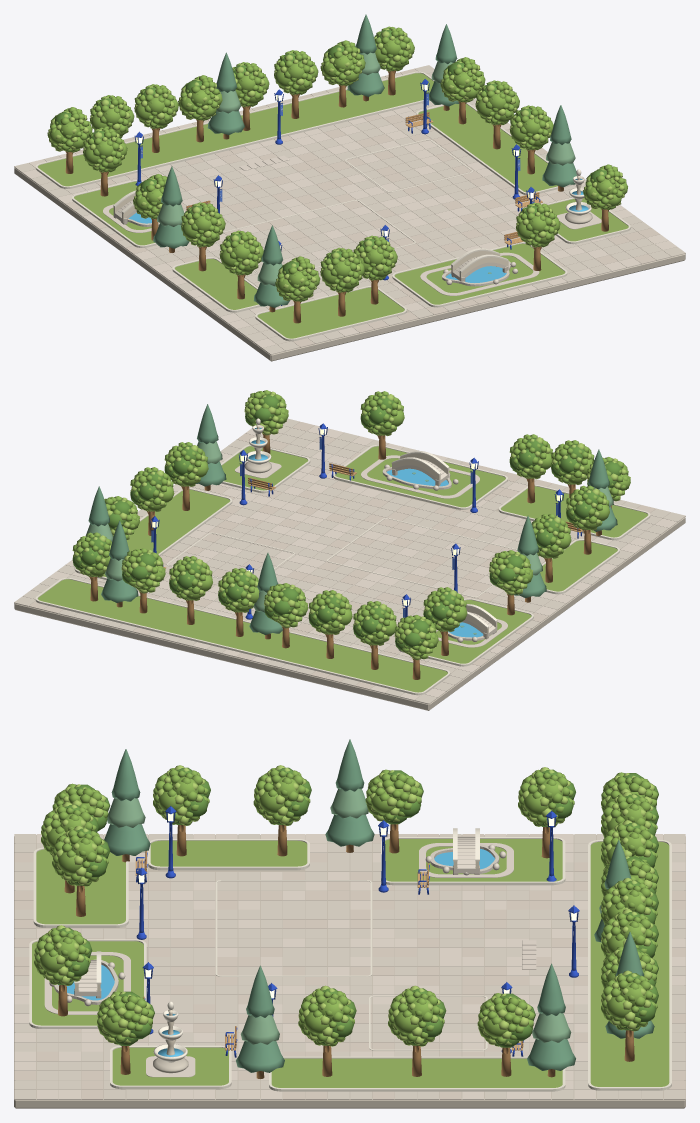
File: home_landscape_decorated_2x.glb
The picture shows the model from 3 angles, top to bottom: view 1: azimuth 30°, elevation 25°; view 2: azimuth 150°, elevation 25°; view 3: azimuth 270°, elevation 25°; orthographic projection. The views are drawn at different scales.
Visible parts, largest first — view 1: paving, garden_1, foundation, garden_3, garden_5, garden_6, garden_4, garden_2, structure.026, structure.001, structure.014, structure.017 (+28 smaller); view 2: paving, garden_1, foundation, garden_6, garden_3, garden_5, garden_4, garden_2, garden_7, structure.004, structure.005, structure.012 (+29 smaller); view 3: paving, foundation, garden_1, garden_3, garden_2, garden_5, garden_4, garden_6, garden_7, structure.026, structure.025, structure.023 (+31 smaller).
Part boxes in pixels (x1=…): paving: x1=14, y1=65, x2=685, y2=354; garden_1: x1=35, y1=71, x2=434, y2=188; foundation: x1=14, y1=69, x2=685, y2=361; garden_3: x1=416, y1=102, x2=571, y2=194; garden_5: x1=255, y1=286, x2=406, y2=341; garden_6: x1=392, y1=242, x2=567, y2=307; garden_4: x1=172, y1=257, x2=261, y2=312; garden_2: x1=72, y1=180, x2=185, y2=247; structure.026: x1=542, y1=105, x2=577, y2=191; structure.001: x1=134, y1=84, x2=178, y2=152; structure.014: x1=320, y1=247, x2=364, y2=316; structure.017: x1=475, y1=80, x2=519, y2=149; paving: x1=14, y1=418, x2=685, y2=704; garden_1: x1=35, y1=578, x2=450, y2=695; foundation: x1=14, y1=423, x2=685, y2=710; garden_6: x1=333, y1=445, x2=507, y2=509; garden_3: x1=74, y1=488, x2=232, y2=579; garden_5: x1=498, y1=485, x2=650, y2=540; garden_4: x1=540, y1=539, x2=619, y2=594; garden_2: x1=398, y1=598, x2=533, y2=666; garden_7: x1=221, y1=444, x2=310, y2=493; structure.004: x1=353, y1=601, x2=396, y2=669; structure.005: x1=169, y1=556, x2=212, y2=624; structure.012: x1=566, y1=485, x2=609, y2=554; paving: x1=14, y1=834, x2=685, y2=1099; foundation: x1=14, y1=835, x2=685, y2=1108; garden_1: x1=588, y1=839, x2=671, y2=1090; garden_3: x1=269, y1=1056, x2=565, y2=1091; garden_2: x1=381, y1=837, x2=565, y2=885; garden_5: x1=33, y1=847, x2=128, y2=927; garden_4: x1=148, y1=839, x2=309, y2=870; garden_6: x1=29, y1=939, x2=146, y2=1028; garden_7: x1=110, y1=1045, x2=231, y2=1089; structure.026: x1=236, y1=965, x2=284, y2=1078; structure.025: x1=527, y1=963, x2=575, y2=1077; structure.023: x1=325, y1=739, x2=374, y2=852.
Size of the model in its own units: 56 by 12.18 by 60.
